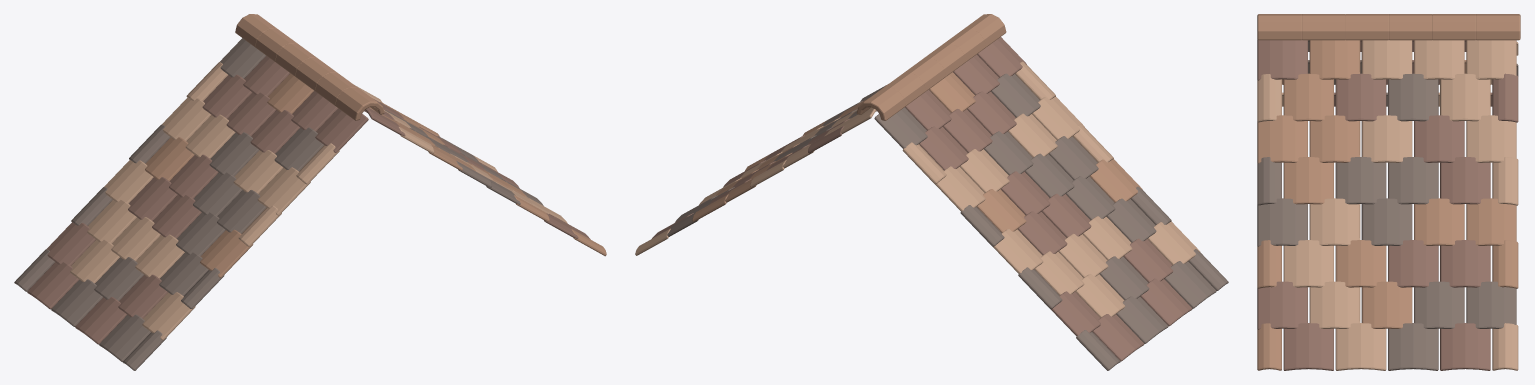
The model's file is roof_gable_4x2m__finish.glb.
The picture shows the model from 3 angles, left to right: view 1: azimuth 30°, elevation 25°; view 2: azimuth 150°, elevation 25°; view 3: azimuth 270°, elevation 25°; orthographic projection. The views are drawn at different scales.
Visible parts, largest first — view 1: roof_gable_4x2m__finish__mesh_00; view 2: roof_gable_4x2m__finish__mesh_00; view 3: roof_gable_4x2m__finish__mesh_00.
Part boxes in pixels (x1,y1,x2,y2): roof_gable_4x2m__finish__mesh_00: (14, 14, 606, 370); roof_gable_4x2m__finish__mesh_00: (635, 14, 1228, 370); roof_gable_4x2m__finish__mesh_00: (1257, 14, 1520, 370).
Size of the model in its own units: 4.59 by 1.95 by 2.02.
